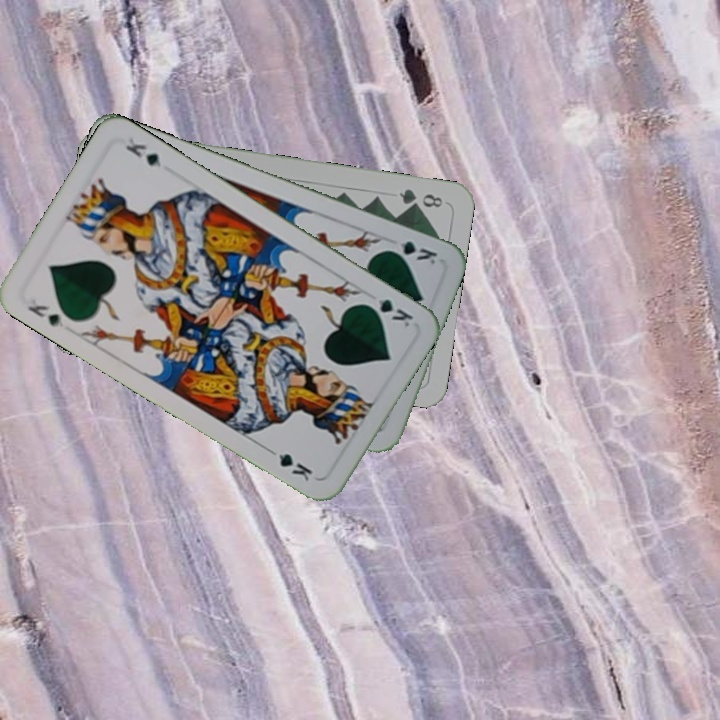G8: (395, 184, 446, 210)
GK: (360, 293, 416, 331), (382, 235, 440, 267), (24, 300, 68, 331)
